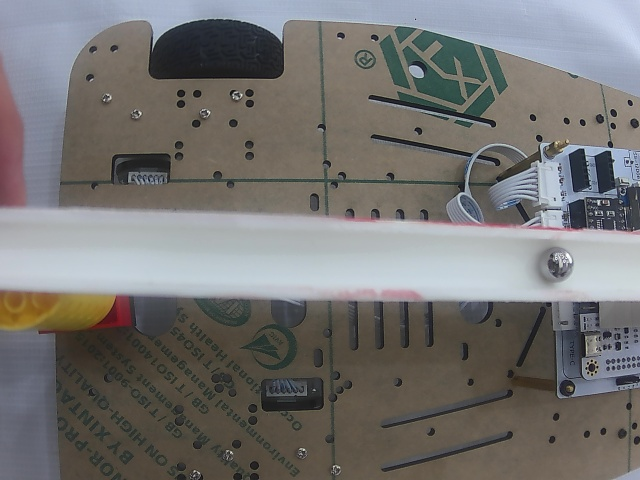steelball: (539, 246, 574, 281)
